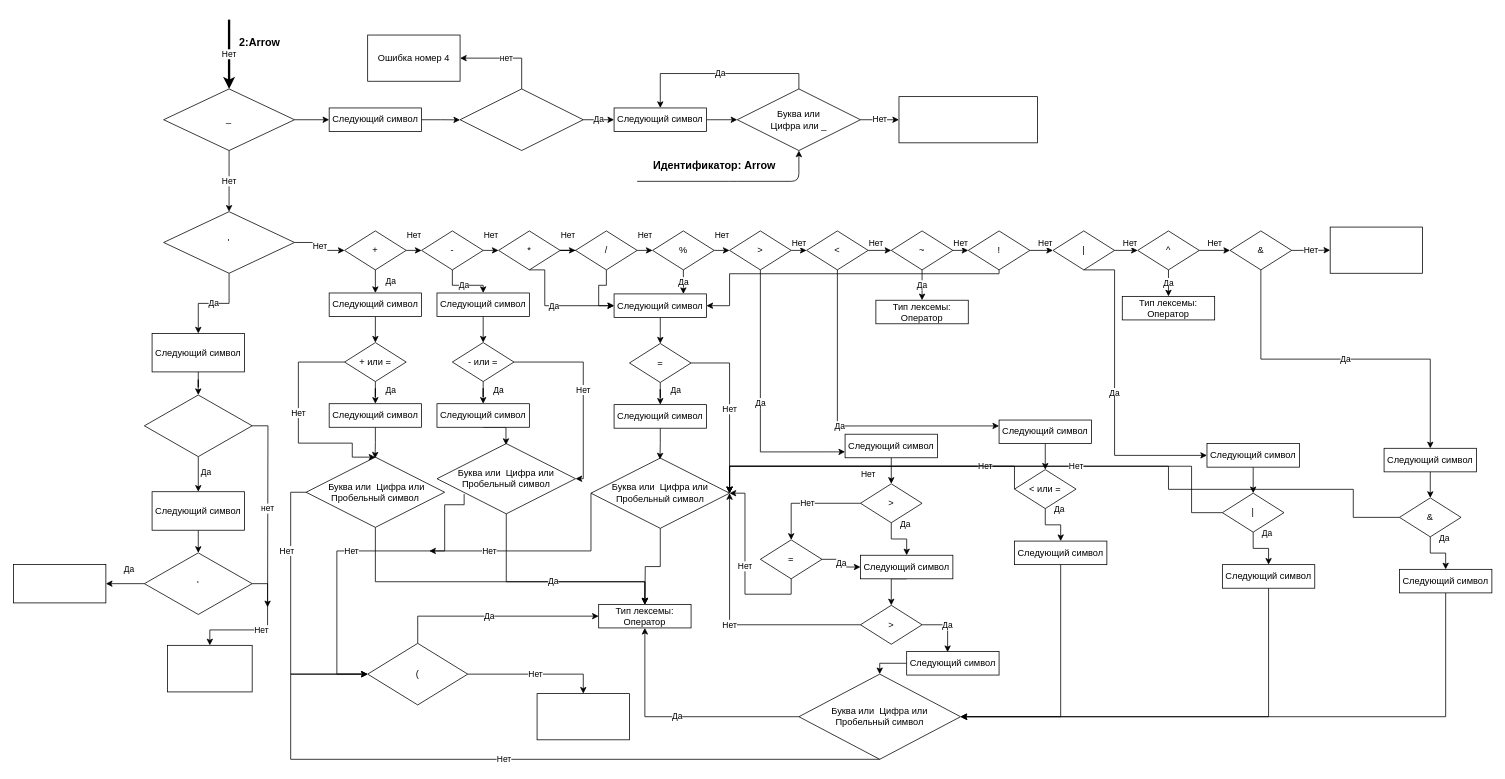
The diagram is 1505 pixels wide and 779 high, and some of its shapes have lost their labels. The shapes that lost their labels are listed below. From the top down, each one's centre as x and y in pixels, then its label:
At point 521,119: "Буква или Цифра или_".
At point 968,119: "Тип лексемы:Идентификатор".
At point 1376,249: "Ошибка номер 5".
At point 198,425: "Буква или Цифра".
At point 59,583: "Тип лексемы: Строка (символ)".
At point 209,668: "Ошибка номер 2".
At point 582,716: "Ошибка номер 3".
